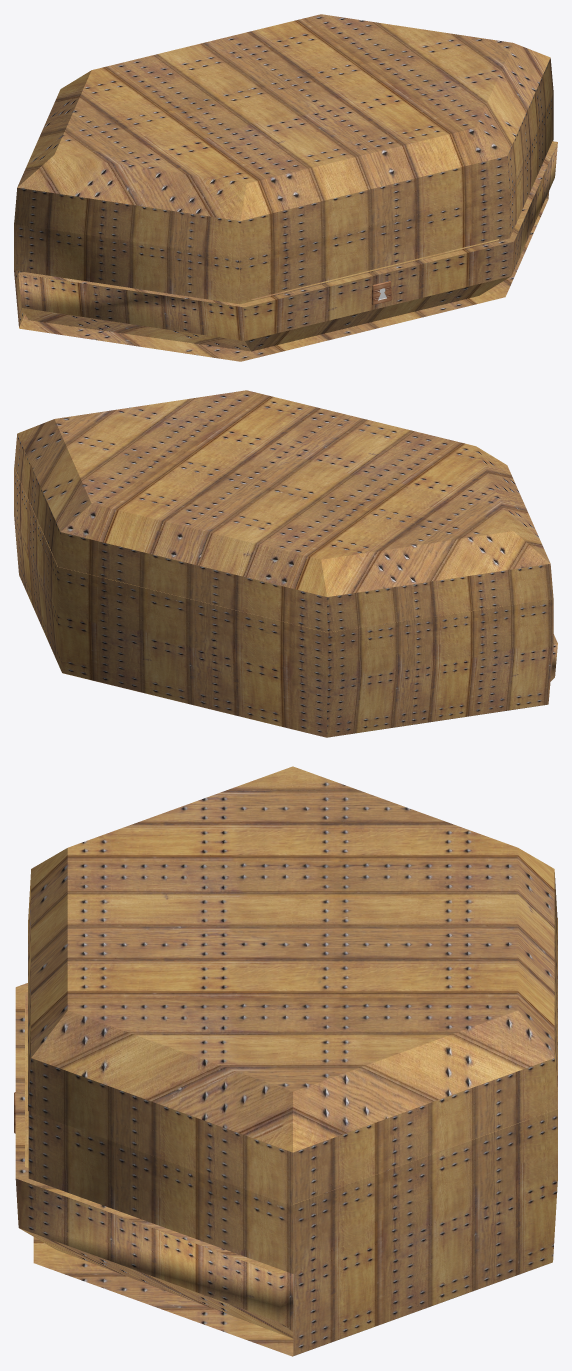
File: CAJA AN 1.FBX
The picture shows the model from 3 angles, top to bottom: view 1: azimuth 30°, elevation 25°; view 2: azimuth 150°, elevation 25°; view 3: azimuth 270°, elevation 25°; orthographic projection. The views are drawn at different scales.
Parts seen in each view (by area): view 1: Tapa( la que sirve), Parte abajo Caja, Cajon, Separador; view 2: Tapa( la que sirve), Parte abajo Caja; view 3: Tapa( la que sirve), Parte abajo Caja, Cajon.
Boxes of the visible parts, left/top/right/bottom form: Tapa( la que sirve): left=14, top=14, right=553, bottom=257; Parte abajo Caja: left=14, top=93, right=553, bottom=361; Cajon: left=18, top=141, right=557, bottom=351; Separador: left=251, top=239, right=498, bottom=299; Tapa( la que sirve): left=14, top=390, right=553, bottom=632; Parte abajo Caja: left=14, top=467, right=553, bottom=737; Tapa( la que sirve): left=28, top=766, right=557, bottom=1206; Parte abajo Caja: left=28, top=918, right=557, bottom=1356; Cajon: left=15, top=983, right=293, bottom=1338.
Size of the model in its own units: 5.34 by 1.56 by 3.21.
